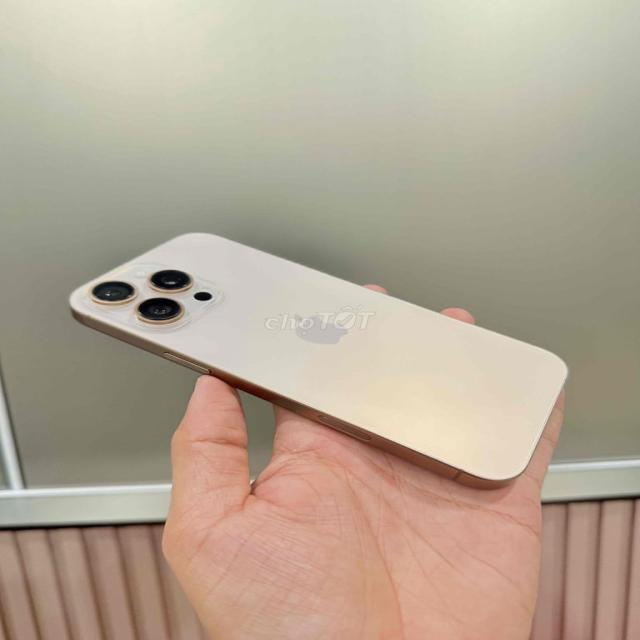gen_16: (70, 233, 567, 485)
